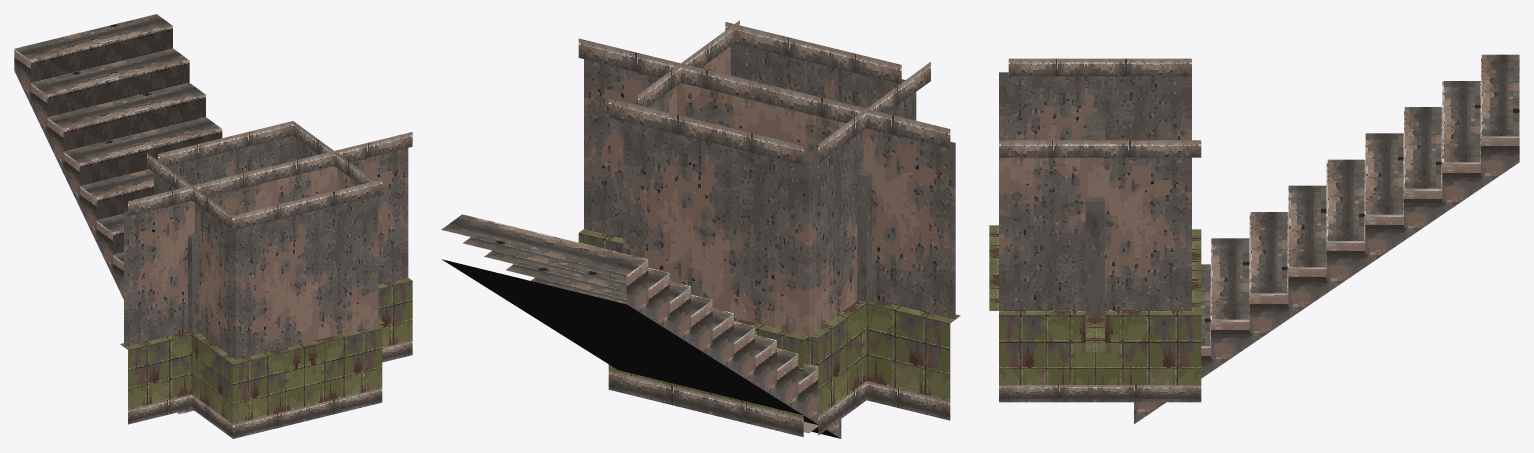
The model's file is modules.glb.
3 renders of one model, left to right at view 1: azimuth 30°, elevation 25°; view 2: azimuth 150°, elevation 25°; view 3: azimuth 270°, elevation 25°, orthographic. The views are drawn at different scales.
Visible parts, largest first — view 1: kit_wall_corner_out, kit_stairs_01, kit_wall_door_double, kit_wall_corner_in, kit_wall_loop, kit_wall_door; view 2: kit_wall_door_double, kit_wall_corner_in, kit_stairs_01, kit_wall_corner_out; view 3: kit_wall_corner_in, kit_stairs_01, kit_wall_corner_out, kit_wall_door_double.
Part boxes in pixels (x1,y1,x2,y2): kit_wall_corner_out: [147, 153, 382, 438]; kit_stairs_01: [14, 14, 222, 414]; kit_wall_door_double: [120, 132, 412, 424]; kit_wall_corner_in: [158, 121, 384, 324]; kit_wall_loop: [199, 149, 341, 214]; kit_wall_door: [207, 181, 278, 215]; kit_wall_door_double: [578, 38, 960, 420]; kit_wall_corner_in: [608, 20, 808, 437]; kit_stairs_01: [441, 214, 841, 438]; kit_wall_corner_out: [725, 22, 930, 435]; kit_wall_corner_in: [999, 140, 1201, 402]; kit_stairs_01: [1134, 54, 1519, 423]; kit_wall_corner_out: [989, 58, 1191, 310]; kit_wall_door_double: [1085, 116, 1104, 351].
Size of what is drawn, in the model's own units: 4 by 3.3 by 5.5.
Materials: 21 (21 with a texture image).
